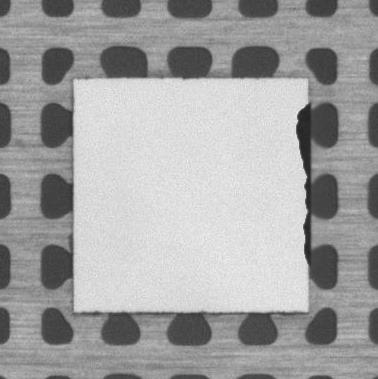DIE_BROKEN: (293, 102, 313, 269)
